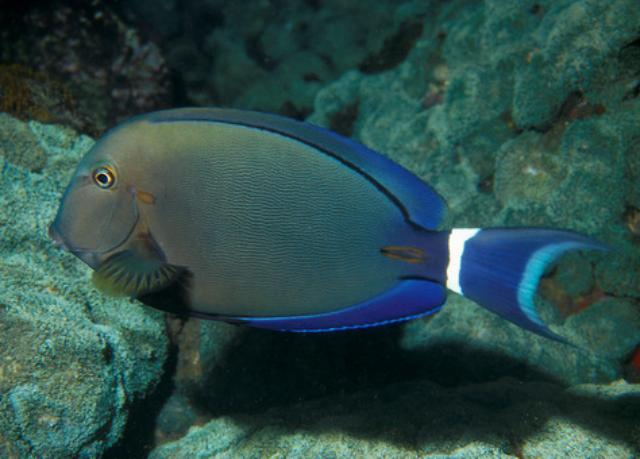Mulut: (21, 205, 93, 284)
Sirip Anal: (217, 266, 453, 344)
Sirip Dada: (76, 227, 200, 327)
Sirip Ekor: (442, 211, 630, 377)
Sirip Punggung: (137, 97, 456, 243)
